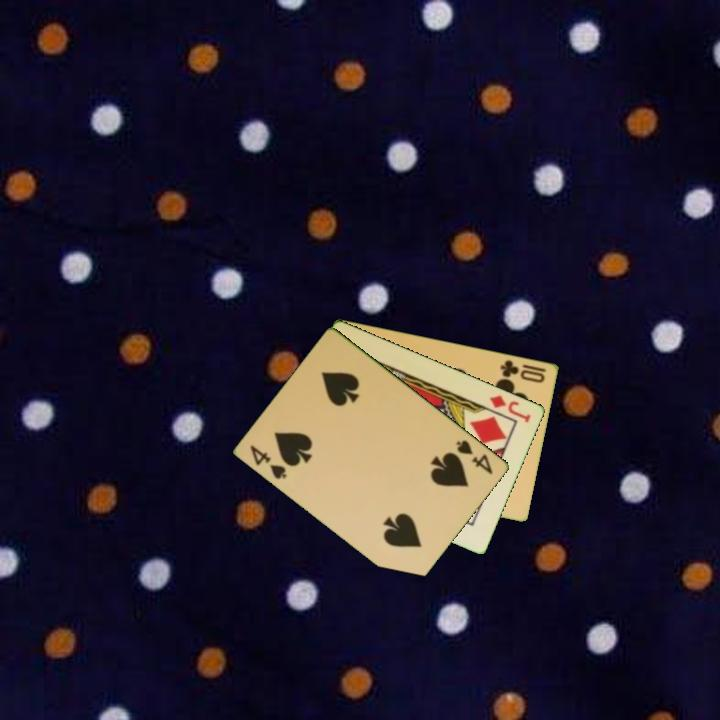10c: (497, 356, 548, 386)
4s: (453, 436, 496, 477), (247, 441, 290, 482)
Jd: (487, 391, 534, 425)
